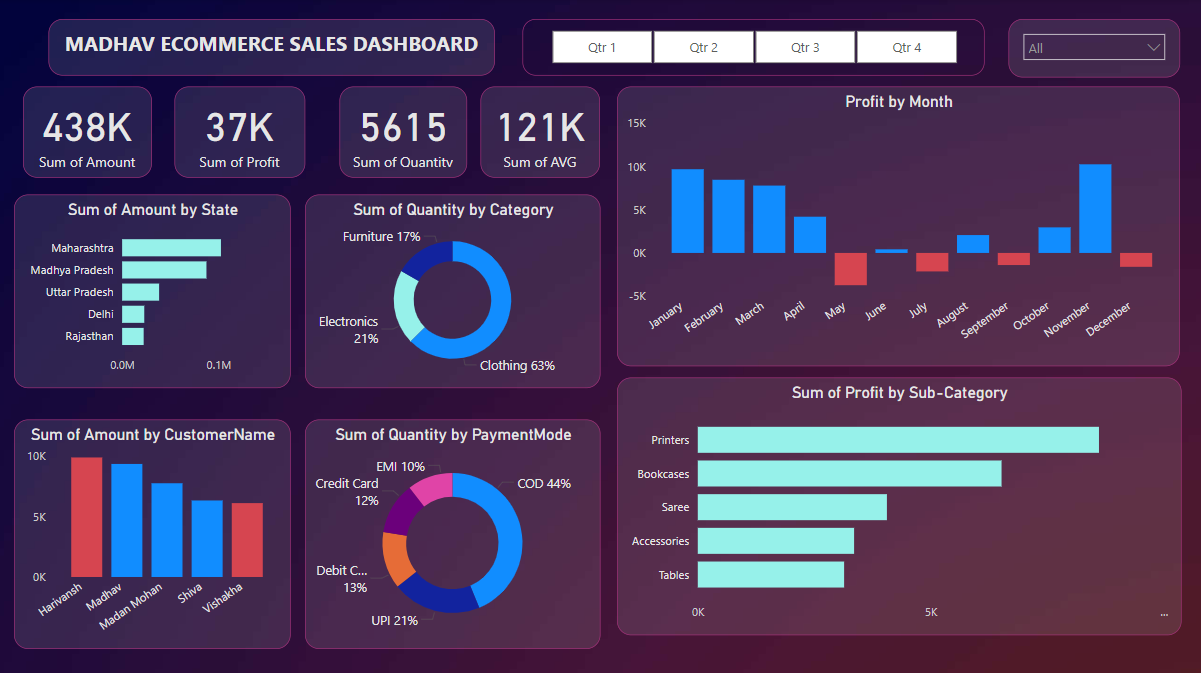

What the dashboard file says about the page in this screenshot:
{"tool":"powerbi","page":{"name":"Page 1","canvas":[1280,720],"ordinal":0},"visuals":[{"type":"textbox","box":[55,21.7,473.3,60],"z":0},{"type":"columnChart","title":"Profit by Month","fields":{"Y":["Details.Profit"],"Category":["Orders.Order Date.Variation.Date Hierarchy.Month"]},"box":[658.3,93.3,596.7,296.7],"z":1000},{"type":"barChart","fields":{"Category":["Details.Sub-Category"],"Y":["Details.Profit"]},"box":[658.3,401.7,598.3,273.3],"z":2000},{"type":"donutChart","fields":{"Category":["Details.Category"],"Y":["Details.Quantity"]},"box":[328.3,208.3,313.3,205],"z":2001},{"type":"donutChart","fields":{"Y":["Details.Quantity"],"Category":["Details.PaymentMode"]},"box":[328.3,446.7,313.3,243.3],"z":2002},{"type":"card","fields":{"Values":["Details.Amount"]},"box":[28.3,93.3,136.7,96.7],"z":2003},{"type":"card","fields":{"Values":["Details.Profit"]},"box":[190,93.3,138.3,96.7],"z":2004},{"type":"card","fields":{"Values":["Details.Quantity"]},"box":[365,93.3,135,96.7],"z":2005},{"type":"card","fields":{"Values":["Details.AVG"]},"box":[513.3,93.3,126.7,96.7],"z":2006},{"type":"barChart","fields":{"Category":["Orders.State"],"Y":["Details.Amount"]},"box":[18.3,208.3,293.3,205],"z":2007},{"type":"columnChart","fields":{"Category":["Orders.CustomerName"],"Y":["Details.Amount"]},"box":[18.3,446.7,293.3,243.3],"z":2008},{"type":"slicer","fields":{"Values":["Orders.Order Date.Variation.Date Hierarchy.Quarter"]},"box":[558.3,21.7,490,60],"z":2009},{"type":"slicer","fields":{"Values":["Orders.State"]},"box":[1073.3,21.7,181.7,61.7],"z":2010}]}

Visuals, with their boxes in screenshot pixels (x1, y1, x2, y2), scaled from the page's 1280x720 canvas onto the 1201x673 screenshot:
textbox: (left=52, top=20, right=496, bottom=76)
"Profit by Month" columnChart: (left=618, top=87, right=1178, bottom=365)
barChart - Details.Sub-Category x Details.Profit: (left=618, top=375, right=1179, bottom=631)
donutChart - Details.Category x Details.Quantity: (left=308, top=195, right=602, bottom=386)
donutChart - Details.Quantity x Details.PaymentMode: (left=308, top=418, right=602, bottom=645)
card - Details.Amount: (left=27, top=87, right=155, bottom=178)
card - Details.Profit: (left=178, top=87, right=308, bottom=178)
card - Details.Quantity: (left=342, top=87, right=469, bottom=178)
card - Details.AVG: (left=482, top=87, right=600, bottom=178)
barChart - Orders.State x Details.Amount: (left=17, top=195, right=292, bottom=386)
columnChart - Orders.CustomerName x Details.Amount: (left=17, top=418, right=292, bottom=645)
slicer - Orders.Order Date.Variation.Date Hierarchy.Quarter: (left=524, top=20, right=984, bottom=76)
slicer - Orders.State: (left=1007, top=20, right=1178, bottom=78)
